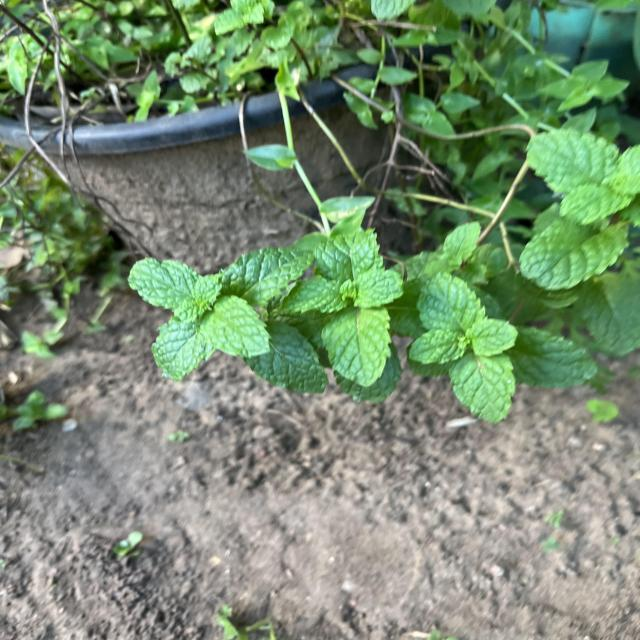Mentha spicata: (321, 305, 393, 388), (203, 296, 271, 360)
